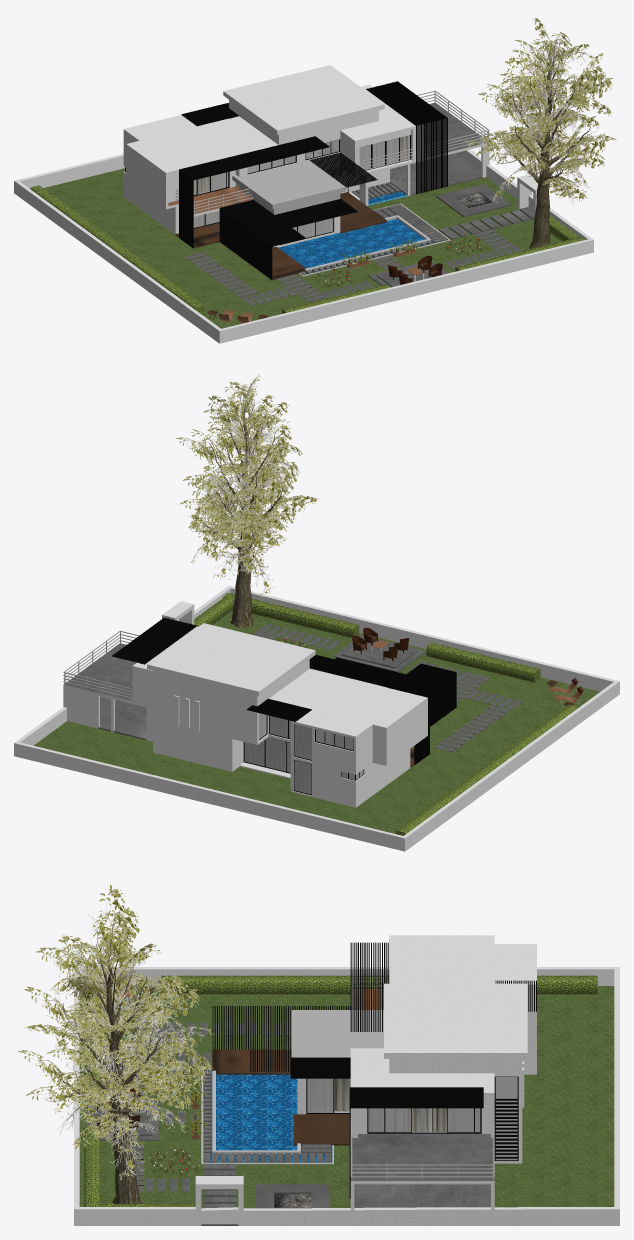
Rendered from ENV.fbx.
3 renders of one model, top to bottom at view 1: azimuth 30°, elevation 25°; view 2: azimuth 150°, elevation 25°; view 3: azimuth 270°, elevation 25°, orthographic. The views are drawn at different scales.
Parts seen in each view (by area): view 1: Grounds, Tree, Covers, Outer_Walls, Roof, Celling, Upper_Wall, Pavement, Ground_Floor, Pool_Area, Water, Window (+9 smaller); view 2: Grounds, Tree, Outer_Walls, Upper_Wall, Roof, Ground_Wall, Celling, Covers, Pavement, Window, Curtains.001, Grass_Patch_01 (+6 smaller); view 3: Grounds, Tree, Roof, Outer_Walls, Covers, Celling, Ground_Floor, Upper_Floor, Water, Window, Grass_Patch_03, Pool_Area (+7 smaller).
Part boxes in pixels (x1,y1,x2,y2): Grounds: (43,168,560,328); Tree: (464,18,616,248); Covers: (179,81,447,279); Outer_Walls: (14,149,593,343); Roof: (223,65,384,214); Celling: (123,84,423,175); Upper_Wall: (123,118,487,216); Pavement: (185,229,521,305); Ground_Floor: (175,153,482,279); Pool_Area: (278,182,533,276); Water: (278,191,433,274); Window: (125,116,410,244); Grounds: (34,610,599,833); Tree: (176,374,319,627); Outer_Walls: (14,586,619,851); Upper_Wall: (63,668,427,774); Roof: (147,623,387,706); Ground_Wall: (63,687,410,807); Celling: (132,626,427,739); Covers: (111,617,456,764); Pavement: (253,623,522,752); Window: (243,713,363,795); Curtains.001: (245,714,311,793); Grass_Patch_01: (194,593,359,638); Grounds: (79,986,614,1208); Tree: (18,884,214,1203); Roof: (291,983,527,1073); Outer_Walls: (74,967,619,1225); Covers: (212,942,536,1198); Celling: (350,935,536,1096); Ground_Floor: (212,1049,516,1207); Upper_Floor: (350,983,494,1180); Water: (203,1070,332,1162); Window: (306,1076,518,1161); Grass_Patch_03: (161,975,597,994); Pool_Area: (201,1067,333,1225).
Size of the model in its own units: 3368 by 2085 by 3286.
